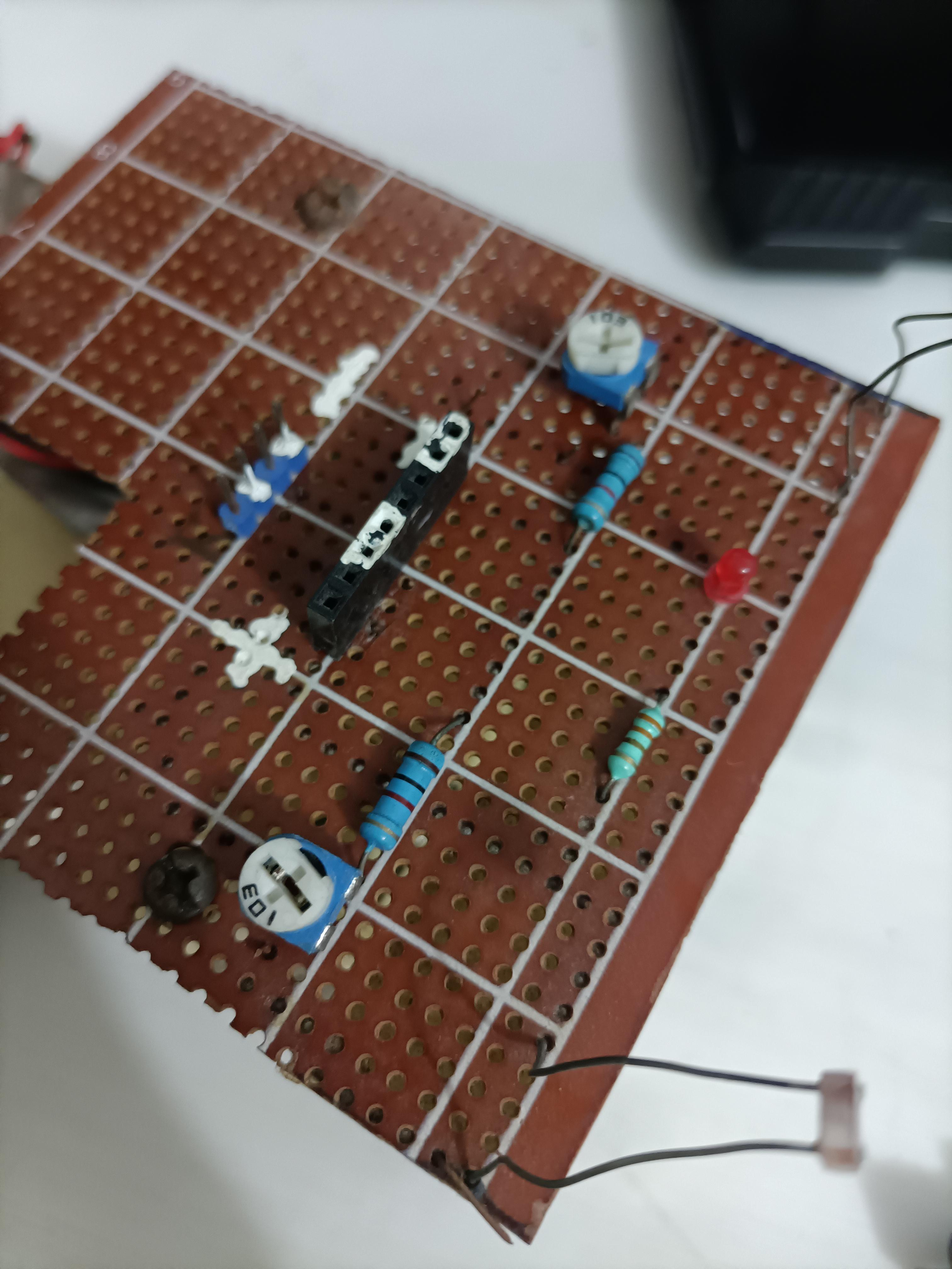LED: (700, 535, 761, 611)
Resistencia: (621, 422, 666, 574), (420, 719, 464, 871), (638, 689, 683, 794)
